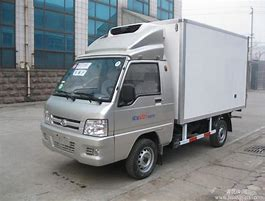smalltruck: (40, 10, 252, 178)
